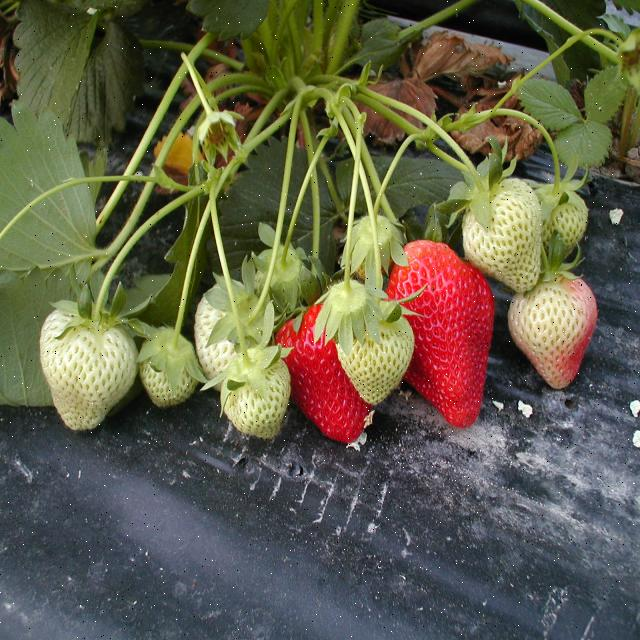Strawberry: (386, 234, 500, 430), (275, 278, 379, 463)
young_strawberry: (42, 300, 139, 442), (451, 171, 551, 299), (506, 266, 602, 398), (334, 294, 414, 416), (194, 280, 276, 390), (222, 351, 292, 455), (528, 180, 595, 278), (140, 323, 198, 426)
